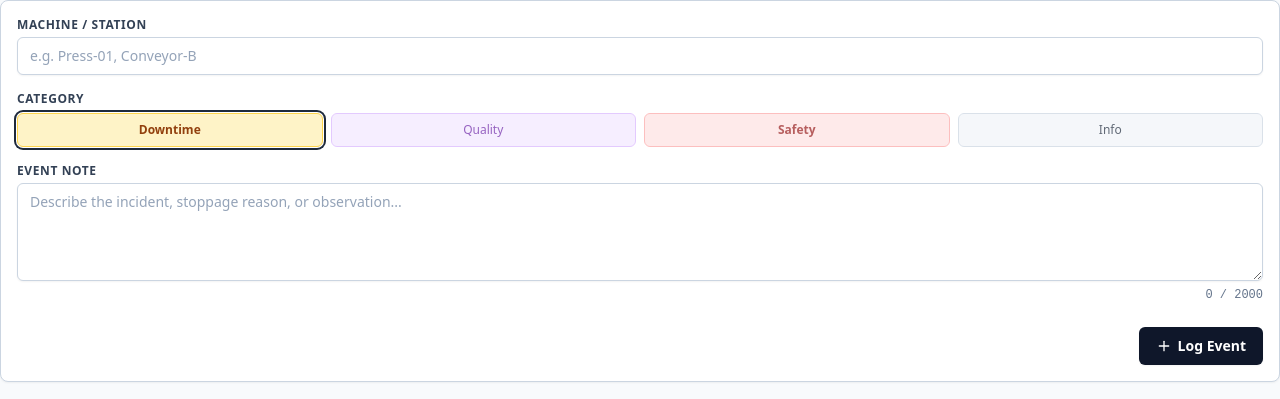
Test: EventForm Component › Client-Side Form Validation › blocks submission and shows inline error when note is empty
Type "Press-01" into the field labelled "Machine / Station".
click(640, 56); type("Press-01")  # box x1=17 y1=37 x2=1263 y2=75
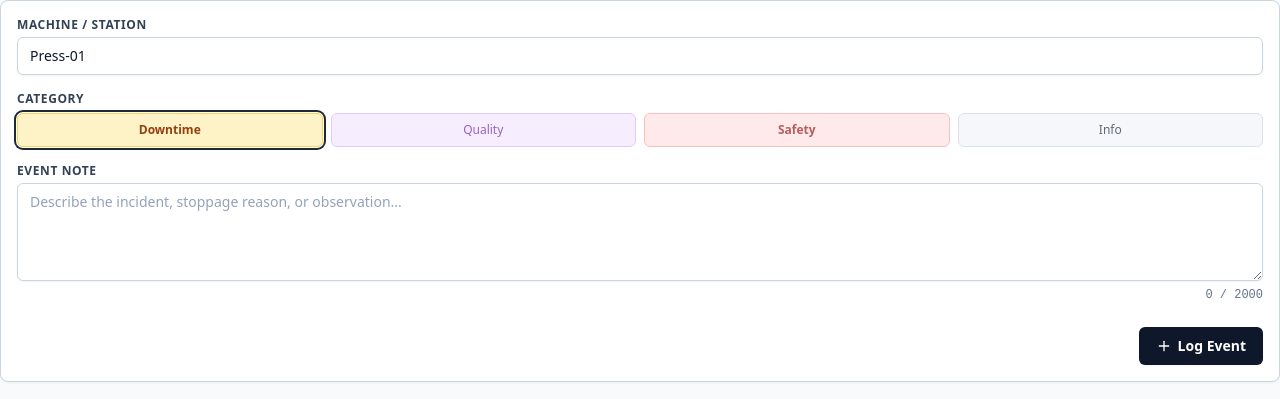
Click the button "Log Event".
click(1201, 346)  # box x1=1139 y1=327 x2=1263 y2=365
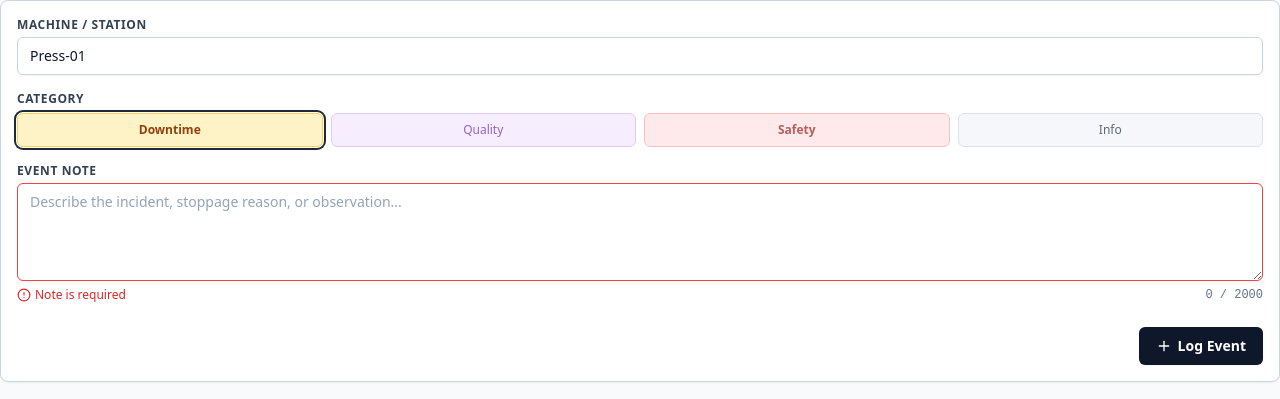
Check: the text "Note is required" is shown, box x1=17 y1=287 x2=126 y2=303
